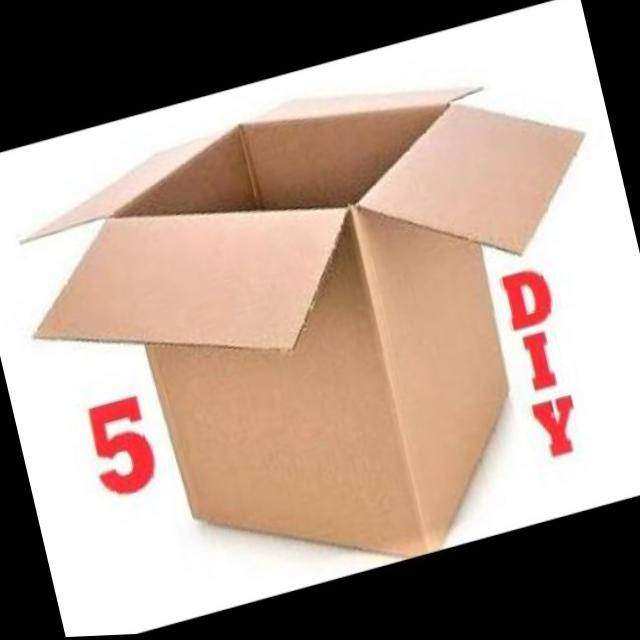box: (0, 2, 640, 640)
